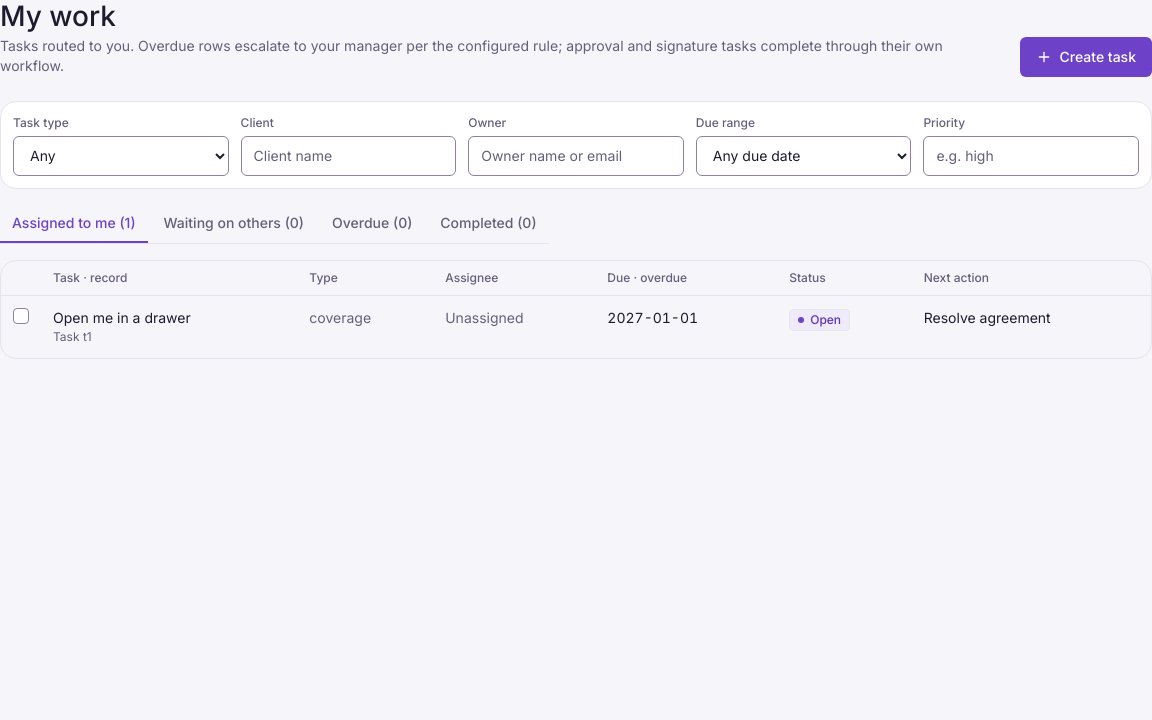
Test: MyWorkPage › opens the right Sheet drawer on row click
Click the row with test id "task-row-t1": click(576, 327) [1, 296, 1151, 358]
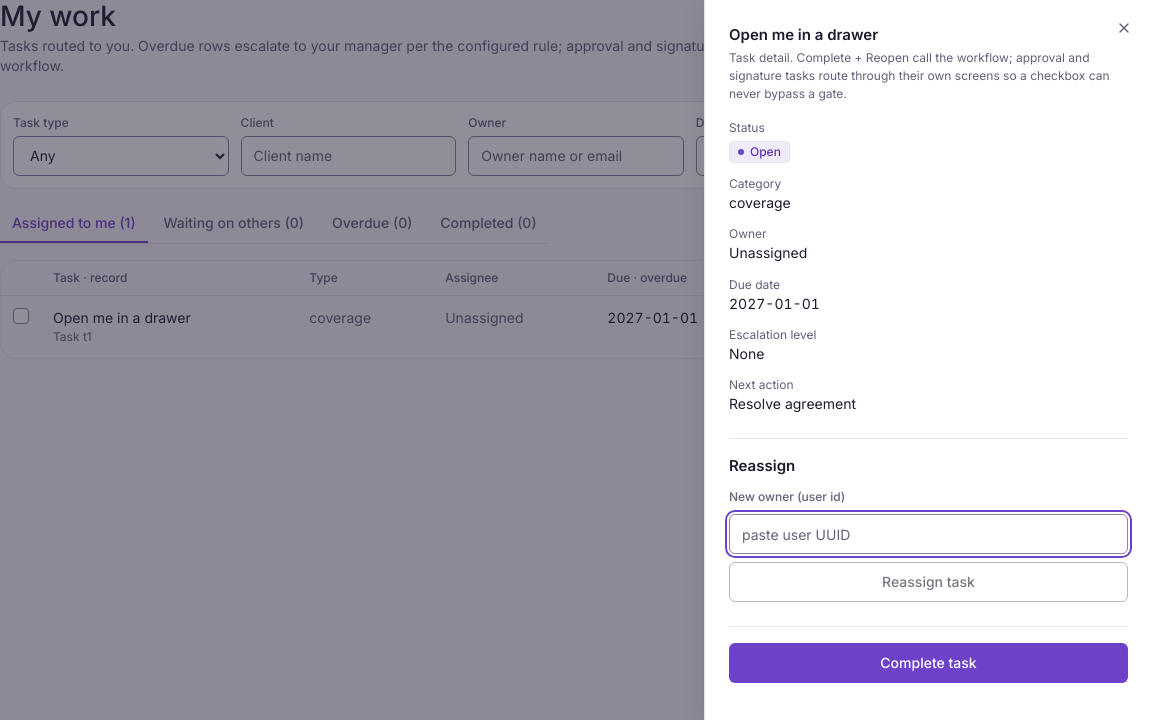
Expected: the dialog shows "Open me in a drawer", [729, 25, 878, 44]
Expected: the field labelled "New owner (user id)" is shown, [729, 514, 1128, 554]
